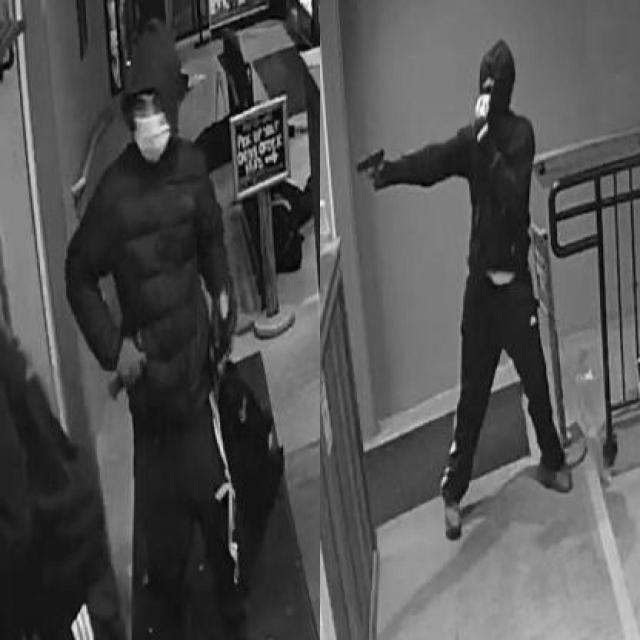weapon: (355, 149, 390, 185)
